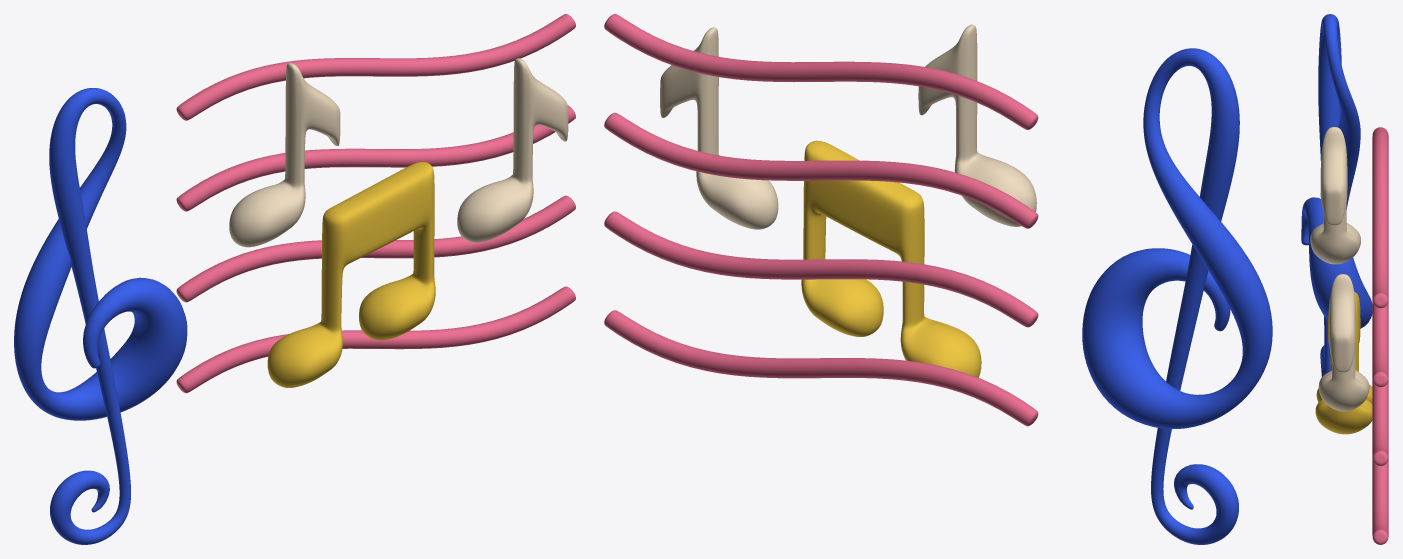
The model's file is 23.Musical Notes.glb.
3 views of the same model, side by side, from view 1: azimuth 30°, elevation 25°; view 2: azimuth 150°, elevation 25°; view 3: azimuth 270°, elevation 25° (orthographic). The views are drawn at different scales.
Parts seen in each view (by area): view 1: NurbsPath.012, NurbsPath.013, Cube.094, Cube.096, Cube.095; view 2: NurbsPath.013, NurbsPath.012, Cube.094, Cube.096, Cube.095; view 3: NurbsPath.012, NurbsPath.013, Cube.095, Cube.096, Cube.094.
Part boxes in pixels (bbox=[...]): NurbsPath.012: bbox=[14, 88, 187, 544]; NurbsPath.013: bbox=[176, 14, 575, 393]; Cube.094: bbox=[267, 162, 435, 387]; Cube.096: bbox=[457, 58, 568, 242]; Cube.095: bbox=[229, 63, 340, 247]; NurbsPath.013: bbox=[604, 14, 1038, 426]; NurbsPath.012: bbox=[1082, 48, 1272, 544]; Cube.094: bbox=[801, 140, 981, 377]; Cube.096: bbox=[660, 27, 778, 229]; Cube.095: bbox=[918, 24, 1036, 226]; NurbsPath.012: bbox=[1301, 14, 1372, 376]; NurbsPath.013: bbox=[1372, 127, 1388, 544]; Cube.095: bbox=[1310, 127, 1360, 264]; Cube.096: bbox=[1318, 274, 1369, 411]; Cube.094: bbox=[1315, 291, 1372, 434].
Bounding box in the file's own units: 5.44 × 4.05 × 0.8091.
